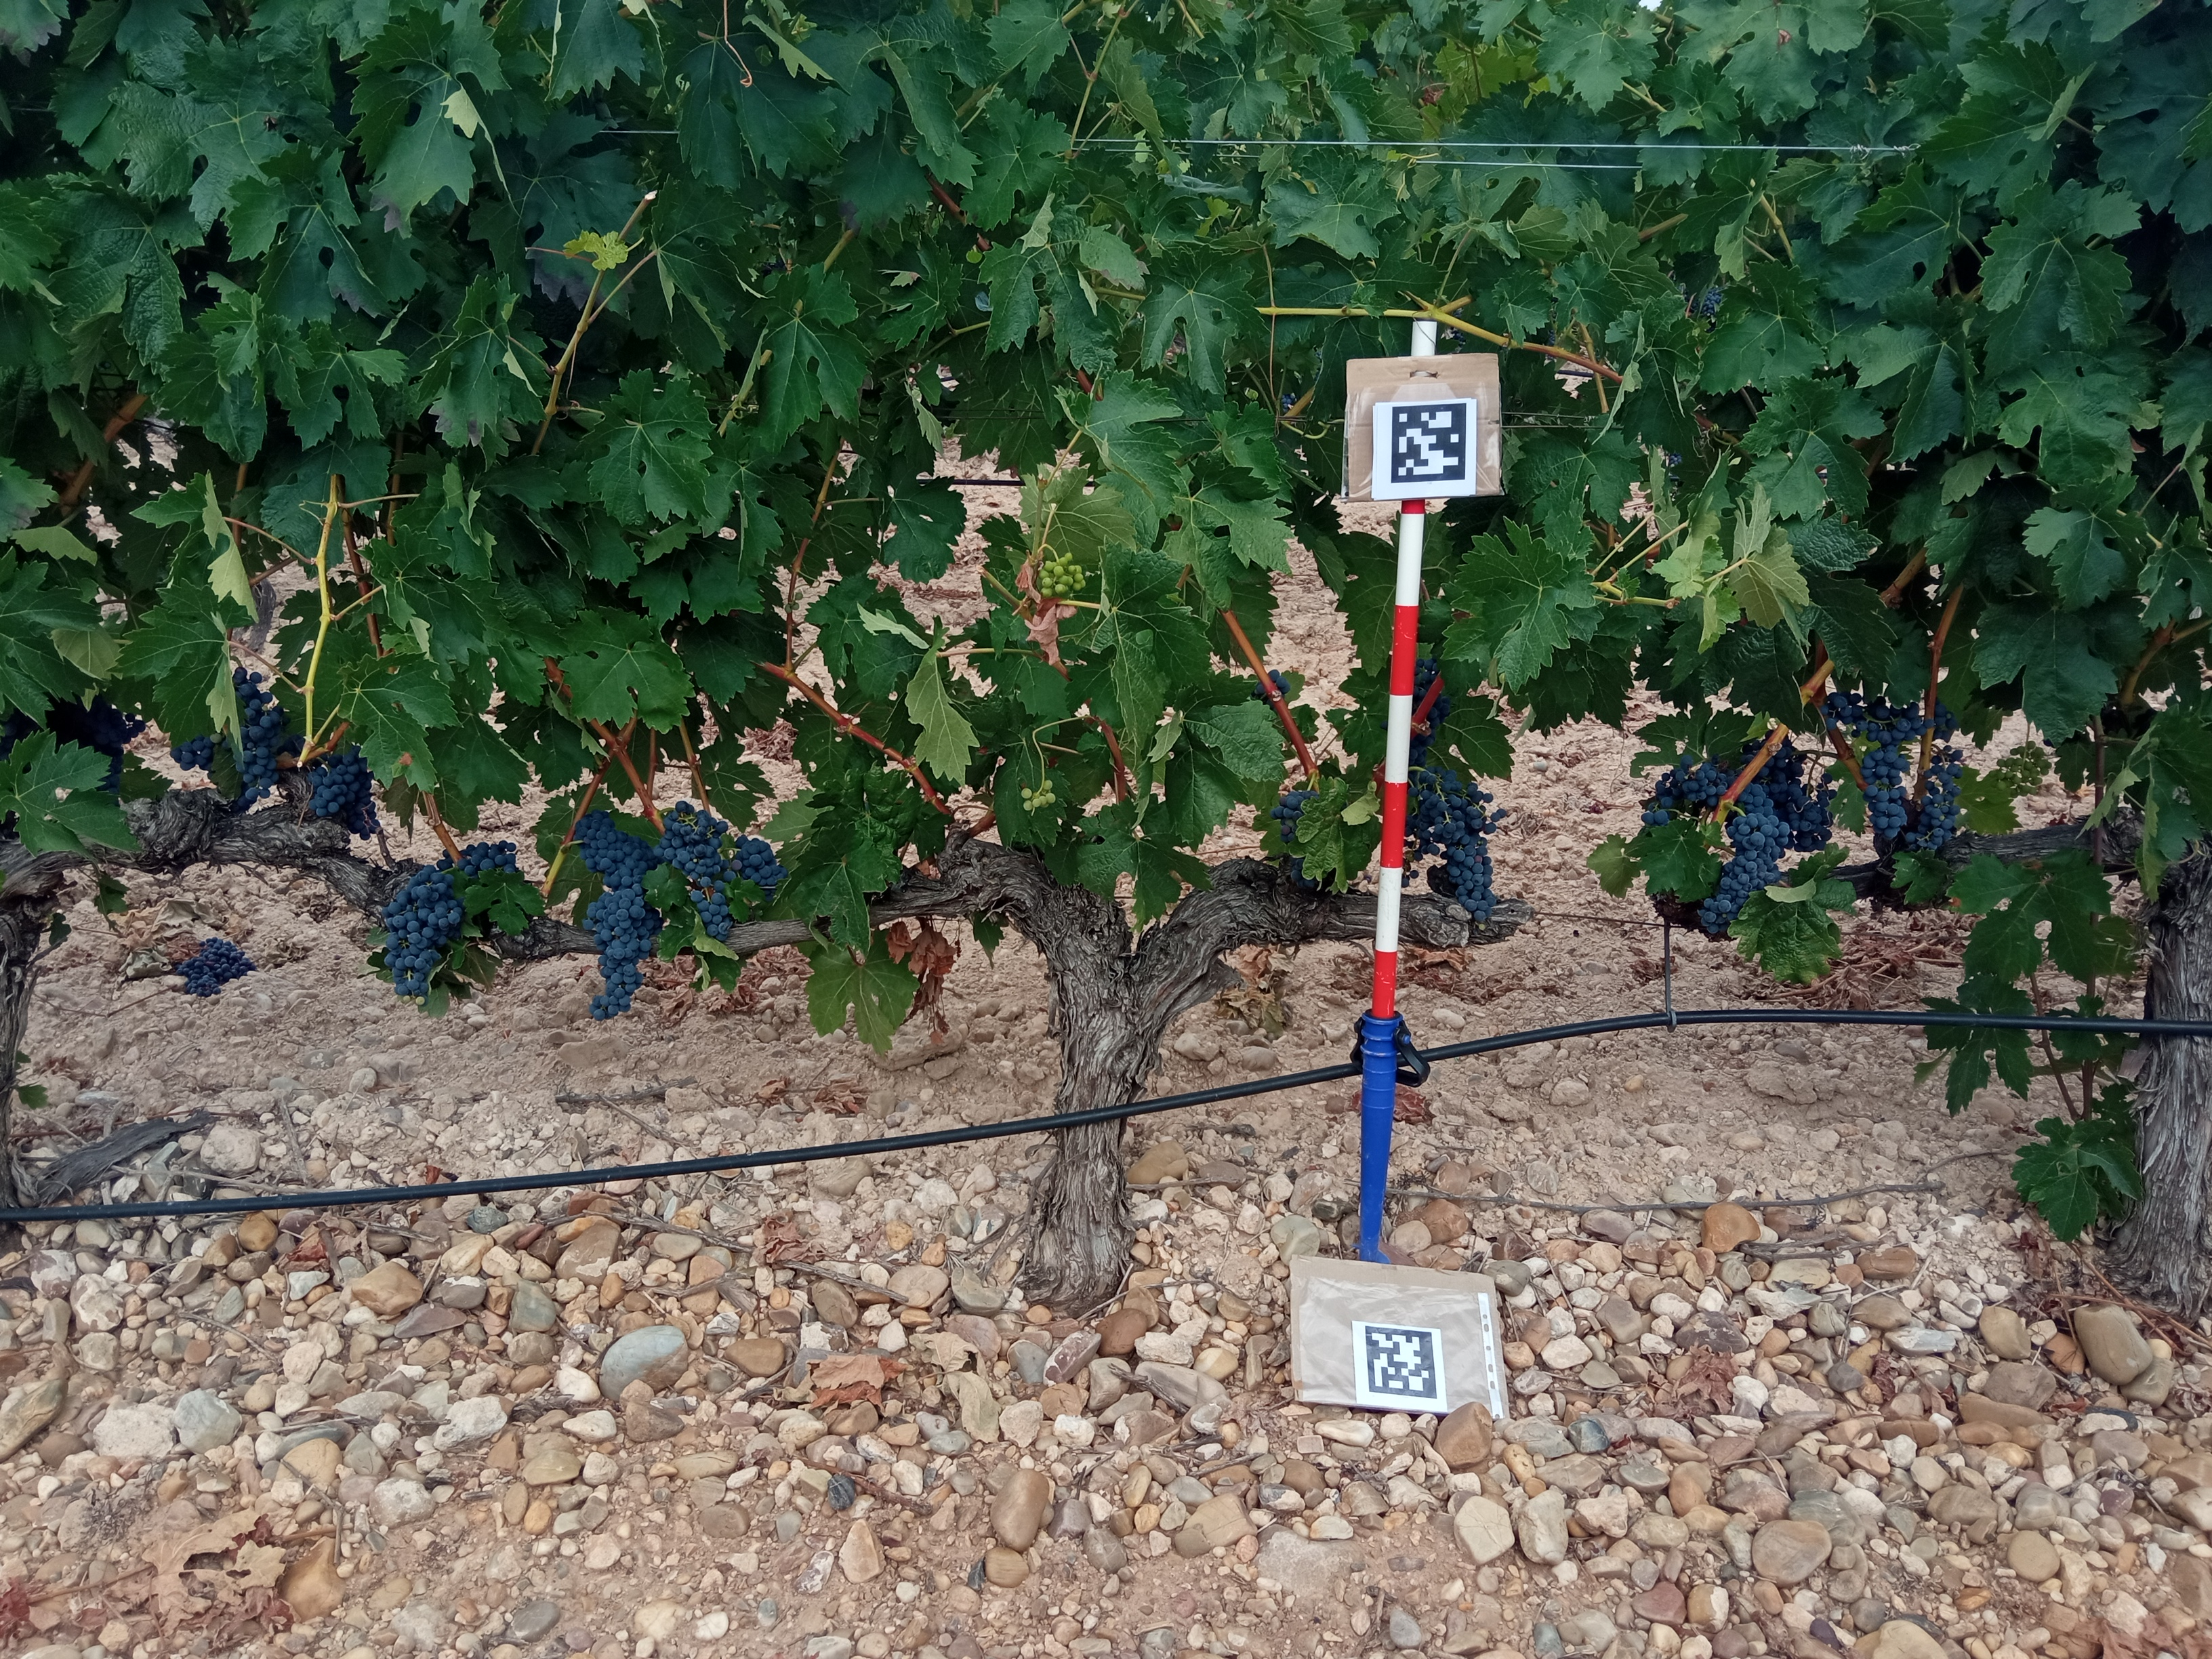grapes: (1399, 763, 1510, 932), (1817, 687, 1926, 842), (1730, 725, 1839, 856), (651, 798, 737, 946), (580, 882, 667, 1025), (381, 863, 467, 1007), (1695, 812, 1792, 936), (284, 734, 383, 842), (230, 664, 289, 814), (571, 807, 662, 890), (1904, 741, 1965, 857), (1637, 751, 1731, 826), (1268, 788, 1324, 890), (49, 697, 146, 748), (1409, 655, 1449, 774), (728, 829, 789, 904), (1993, 739, 2055, 802), (434, 838, 519, 878), (1035, 549, 1089, 599), (167, 732, 221, 772), (91, 748, 125, 805), (1249, 666, 1292, 709), (0, 709, 40, 756), (1921, 697, 1961, 742), (1019, 777, 1057, 814), (0, 809, 19, 840)
